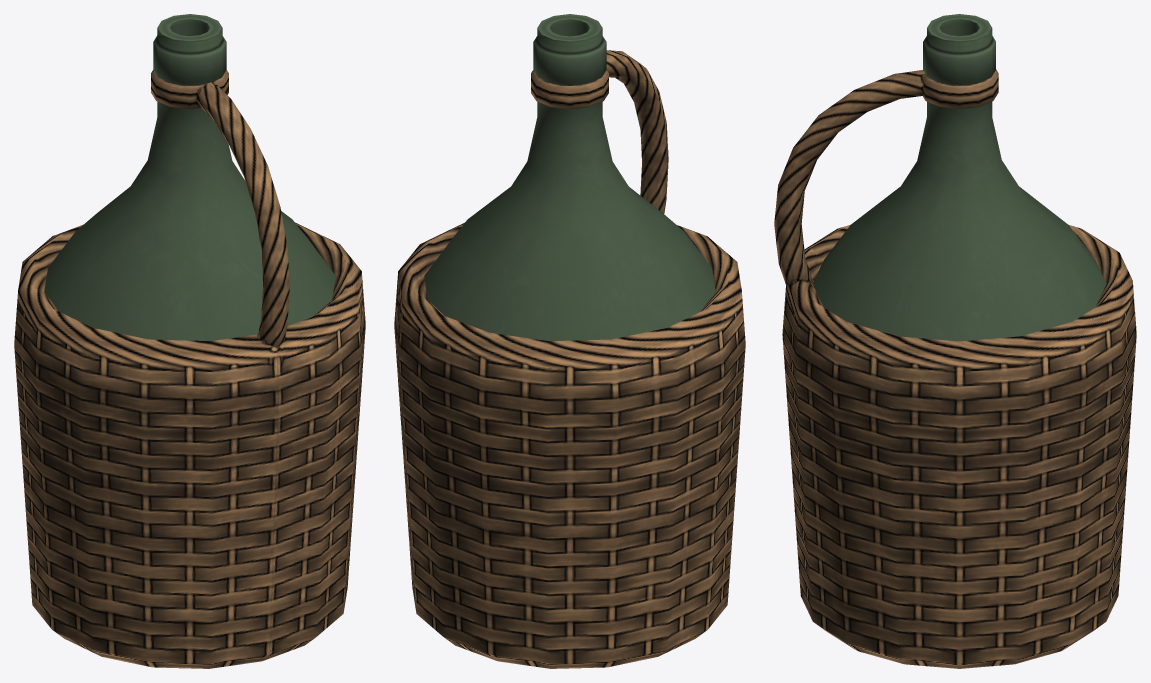
File: LOD0_wickerBigBottle.fbx
3 views of the same model, side by side, from view 1: azimuth 30°, elevation 25°; view 2: azimuth 150°, elevation 25°; view 3: azimuth 270°, elevation 25° (orthographic).
Parts seen in each view (by area): view 1: LOD0_wickerBigBottle; view 2: LOD0_wickerBigBottle; view 3: LOD0_wickerBigBottle.
Boxes of the visible parts, box(x1,y1,x2,y2) form: LOD0_wickerBigBottle: box(14, 14, 365, 668); LOD0_wickerBigBottle: box(394, 14, 745, 668); LOD0_wickerBigBottle: box(774, 14, 1136, 668).
Size of the model in its own units: 0.2261 by 0.4083 by 0.2313.
